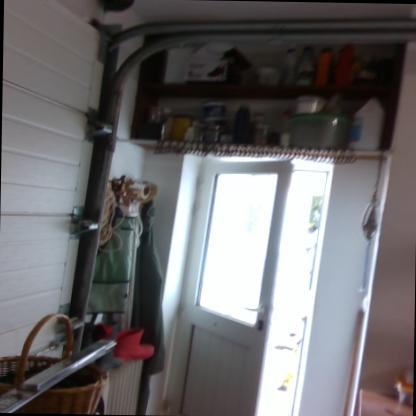semi: (160, 142, 348, 416)
